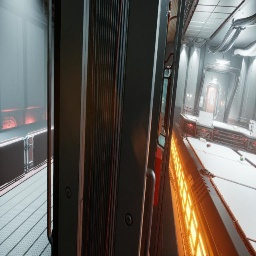0: (198, 137, 206, 143), (240, 156, 245, 161), (233, 126, 238, 129)
EmergencyPhone ,: (222, 100, 225, 105), (161, 107, 163, 112), (162, 109, 163, 110), (224, 102, 224, 103)
FireAlarm ,: (153, 146, 162, 206), (220, 101, 222, 105)
FireExtinguisher ]: (206, 144, 211, 147)
FirstAidBox ,: (212, 122, 213, 125)
SafetySwitchPanel ,: (158, 112, 163, 136), (199, 96, 204, 107), (162, 97, 164, 107)
